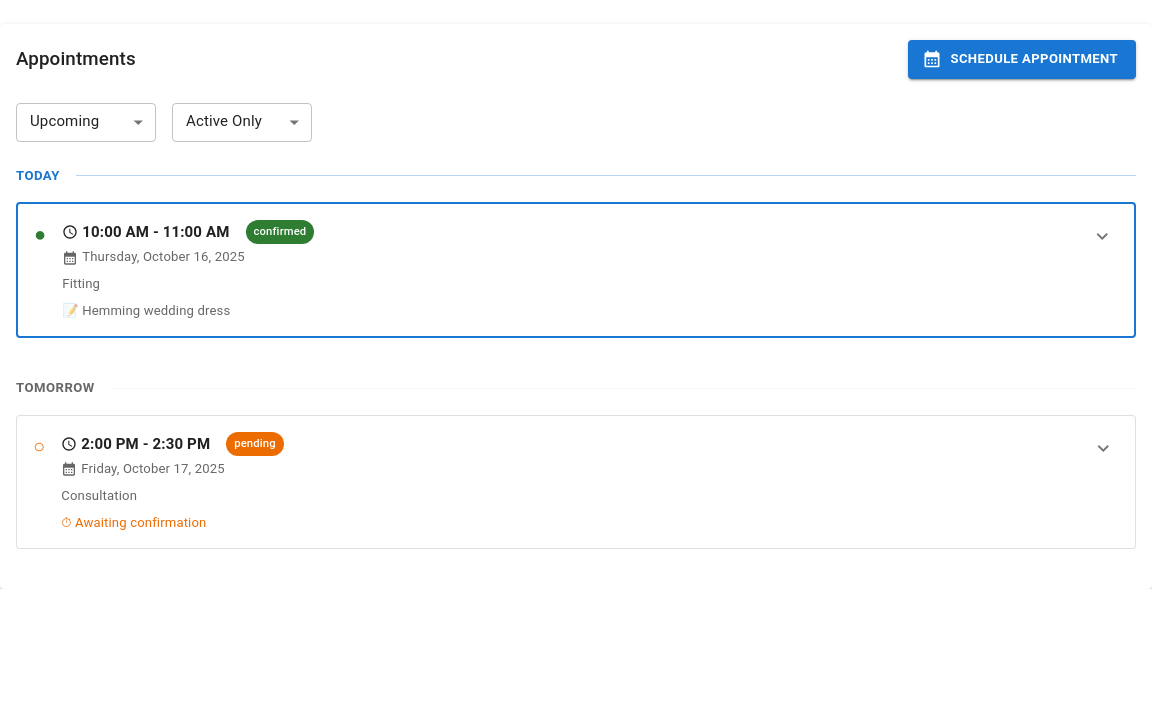
Scenario: ClientAppointmentsSectionV2 › filters appointments by time period
Click the dropdown "Upcoming": x=65, y=122 [30, 112, 99, 130]
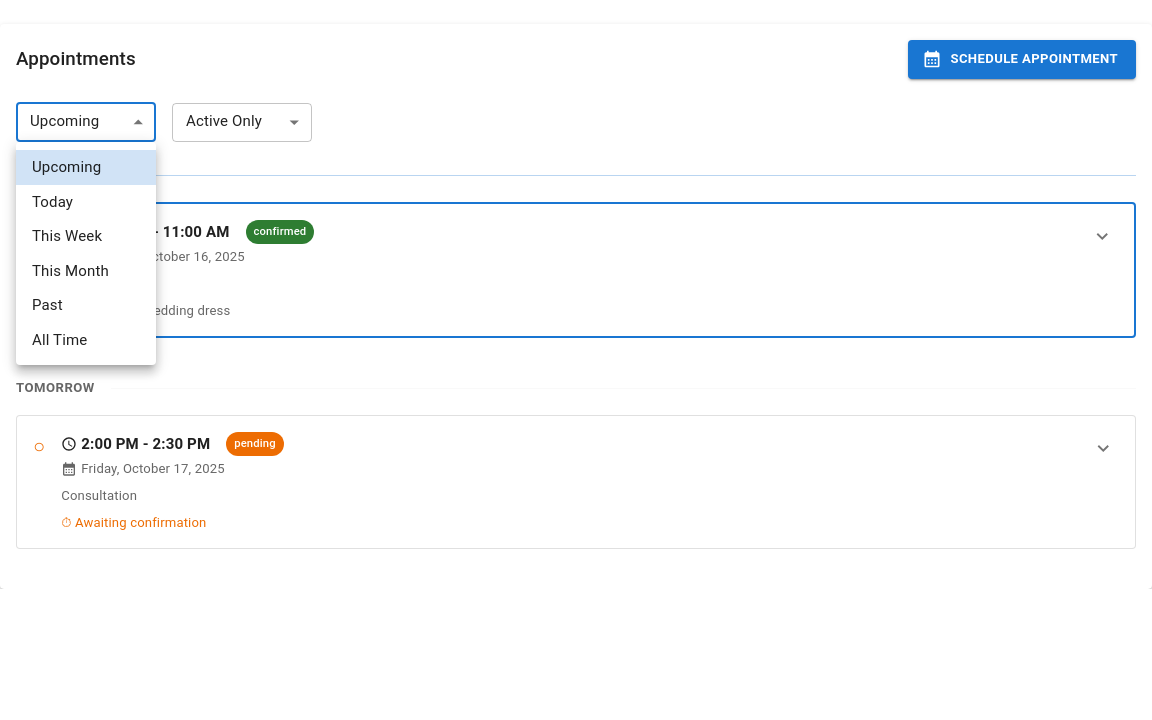
Click the option "Today": x=53, y=202 [32, 192, 73, 210]
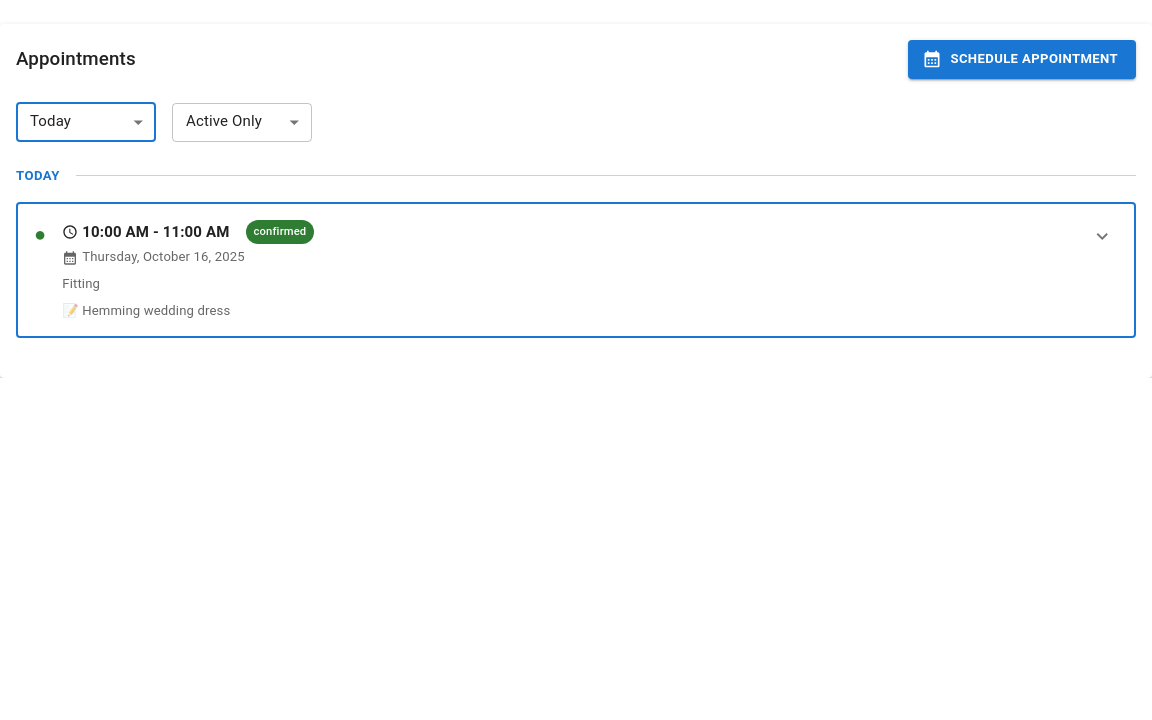
Check: the dropdown "Today" is shown, box [30, 112, 71, 130]
